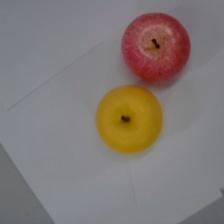red: (121, 12, 190, 83)
yellow: (95, 85, 162, 153)
